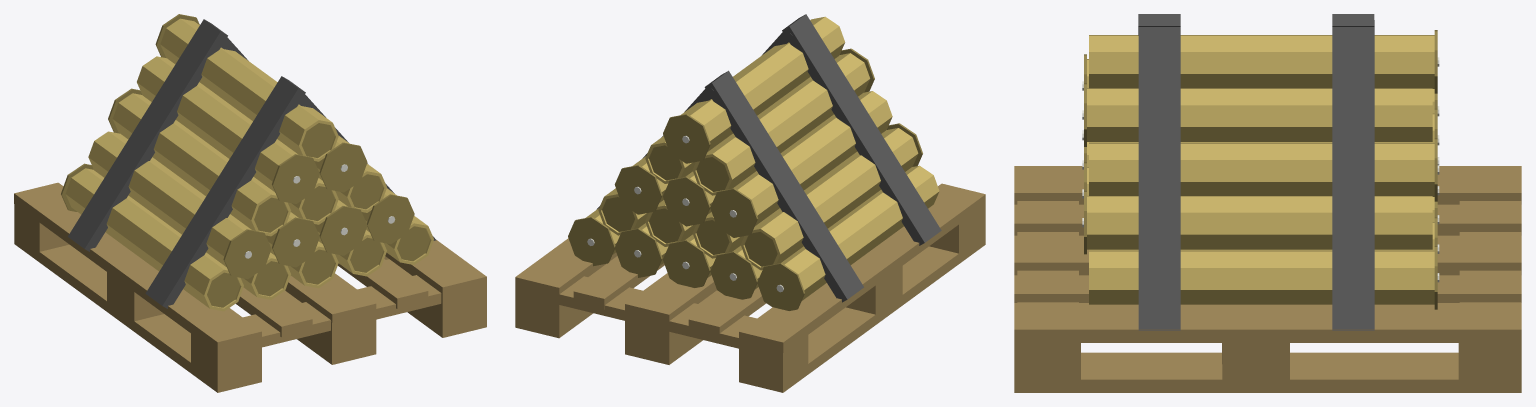
File: cartridges5.fbx
3 views of the same model, side by side, from view 1: azimuth 30°, elevation 25°; view 2: azimuth 150°, elevation 25°; view 3: azimuth 270°, elevation 25° (orthographic). The views are drawn at different scales.
Visible parts, largest first — view 1: Cube; view 2: Cube; view 3: Cube.
Part boxes in pixels (x1,y1,x2,y2): Cube: (14, 14, 486, 392); Cube: (515, 14, 985, 392); Cube: (1014, 14, 1521, 392).
Bounding box in the file's own units: 116 × 94.88 × 148.
